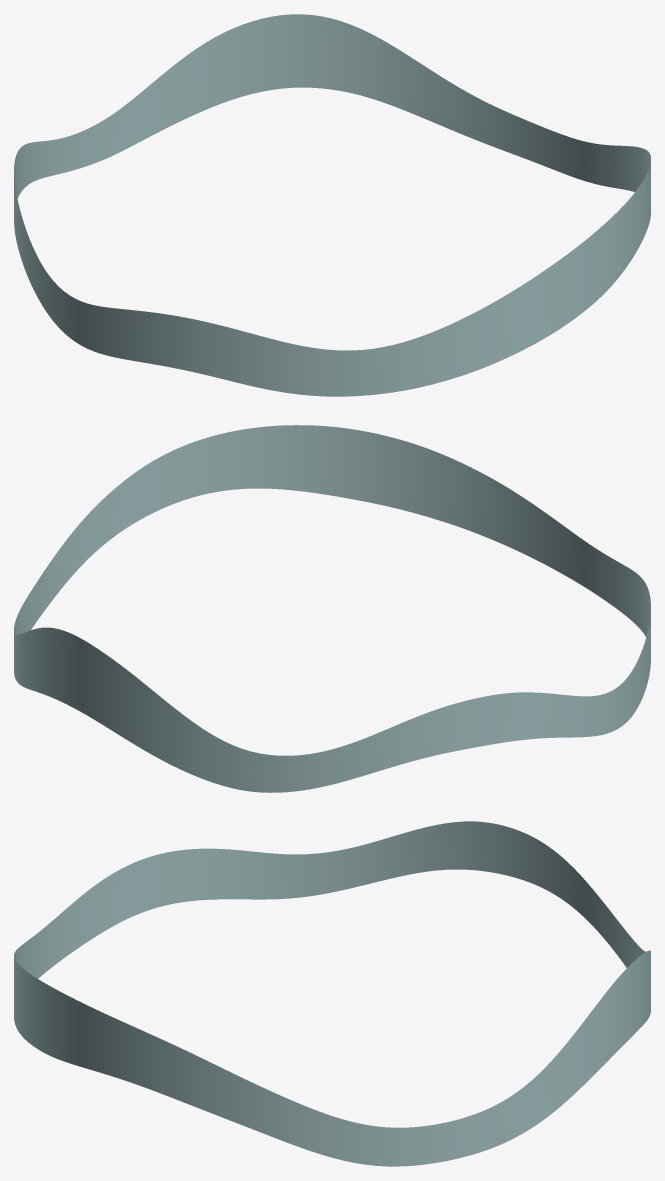
3 renders of one model, top to bottom at view 1: azimuth 30°, elevation 25°; view 2: azimuth 150°, elevation 25°; view 3: azimuth 270°, elevation 25°, orthographic.
Parts seen in each view (by area): view 1: curve_mesh; view 2: curve_mesh; view 3: curve_mesh.
Part boxes in pixels (left/top/right/bottom): curve_mesh: left=14, top=14, right=650, bottom=396; curve_mesh: left=14, top=425, right=650, bottom=792; curve_mesh: left=14, top=821, right=650, bottom=1166.
Bounding box in the file's own units: 2434 × 501 × 2434.
